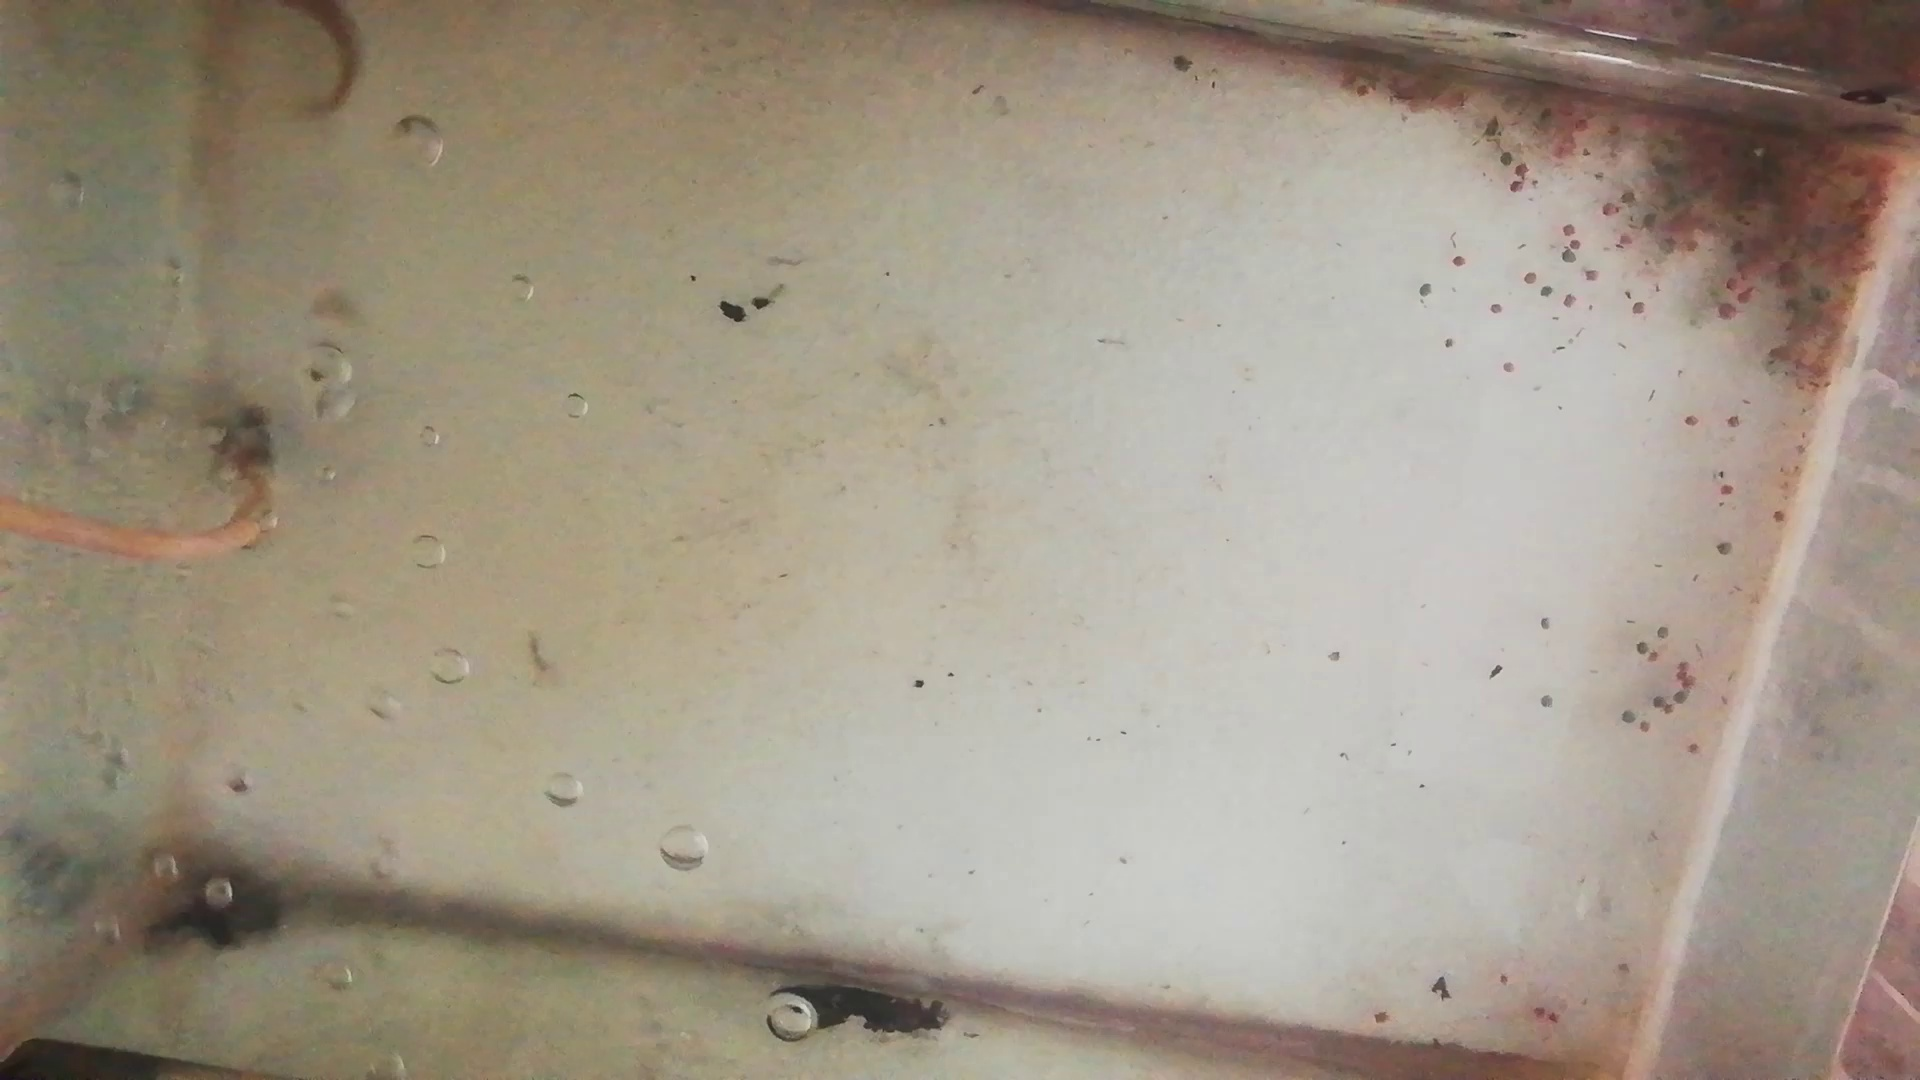fish: (273, 5, 371, 123)
